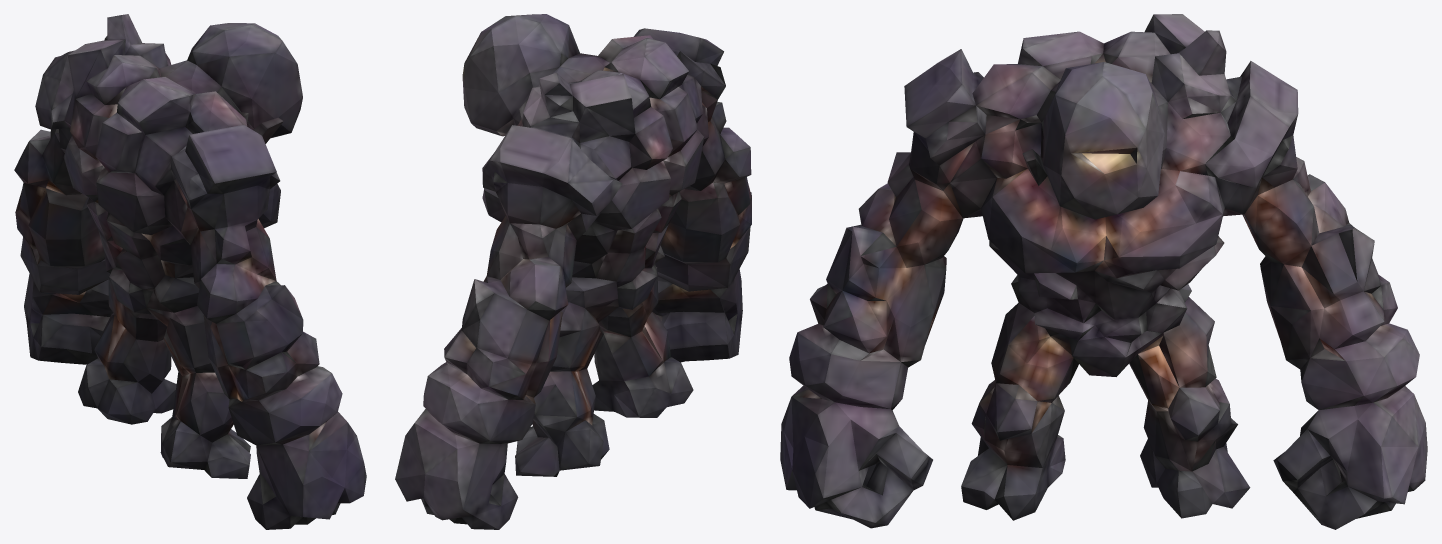
File: foe_rubbleGolem.glb
The picture shows the model from 3 angles, left to right: view 1: azimuth 30°, elevation 25°; view 2: azimuth 150°, elevation 25°; view 3: azimuth 270°, elevation 25°; orthographic projection. The views are drawn at different scales.
Parts seen in each view (by area): view 1: tripo_node_056b1768-9484-49e2-b7cc-d164fbd30c17.001; view 2: tripo_node_056b1768-9484-49e2-b7cc-d164fbd30c17.001; view 3: tripo_node_056b1768-9484-49e2-b7cc-d164fbd30c17.001.
Part boxes in pixels (x1,y1,x2,y2): tripo_node_056b1768-9484-49e2-b7cc-d164fbd30c17.001: [14, 14, 366, 529]; tripo_node_056b1768-9484-49e2-b7cc-d164fbd30c17.001: [395, 14, 751, 529]; tripo_node_056b1768-9484-49e2-b7cc-d164fbd30c17.001: [780, 14, 1427, 529].
Bounding box in the file's own units: 0.4154 × 0.7967 × 0.9991.
1 material, 1 textured.
